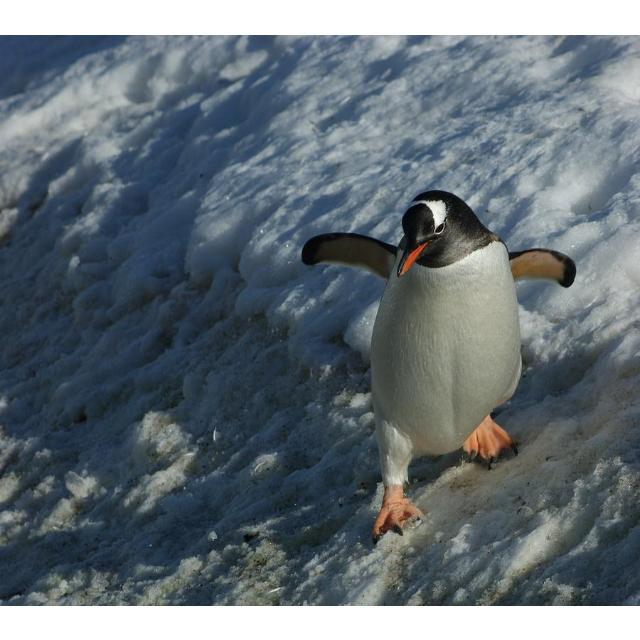penguin: (303, 191, 576, 546)
